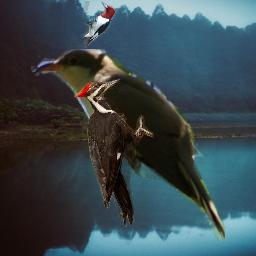Cuckoo: (31, 49, 225, 242)
Woodpecker: (74, 78, 154, 228), (80, 1, 117, 48)
